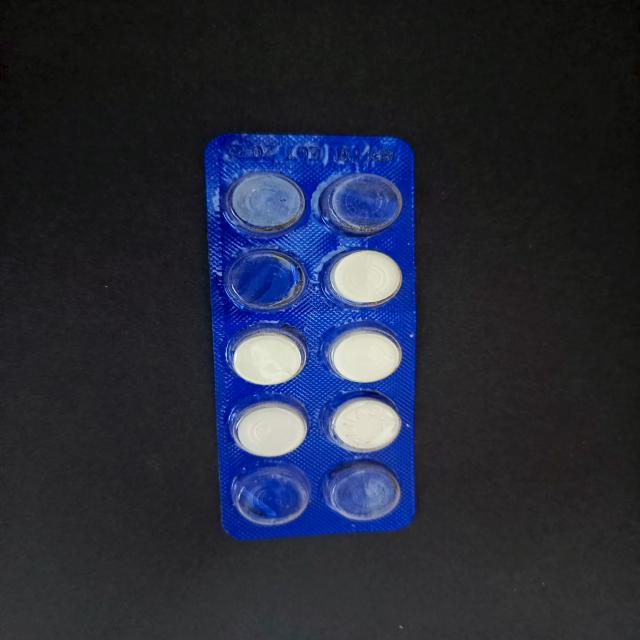defect: (220, 170, 312, 237), (220, 247, 308, 315), (316, 170, 406, 236), (227, 461, 315, 527), (317, 458, 403, 524)
